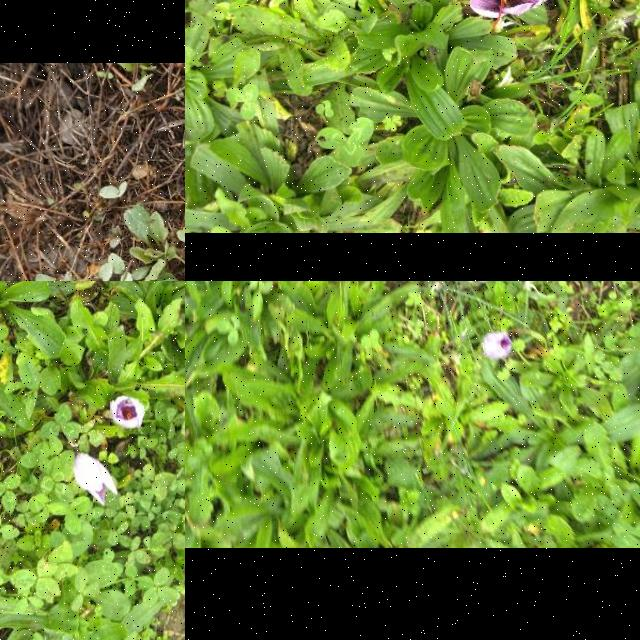flower: (74, 448, 118, 507), (469, 0, 560, 27), (110, 396, 146, 428), (482, 333, 514, 361)
